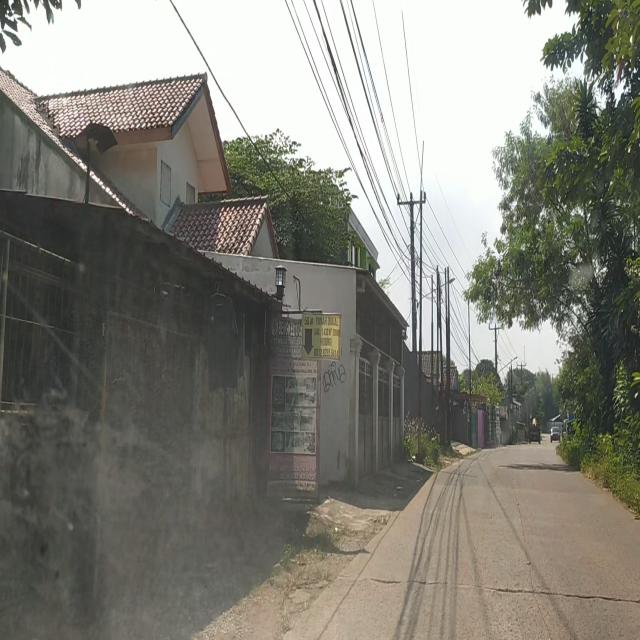Sewer Cover: (368, 575, 640, 607)
